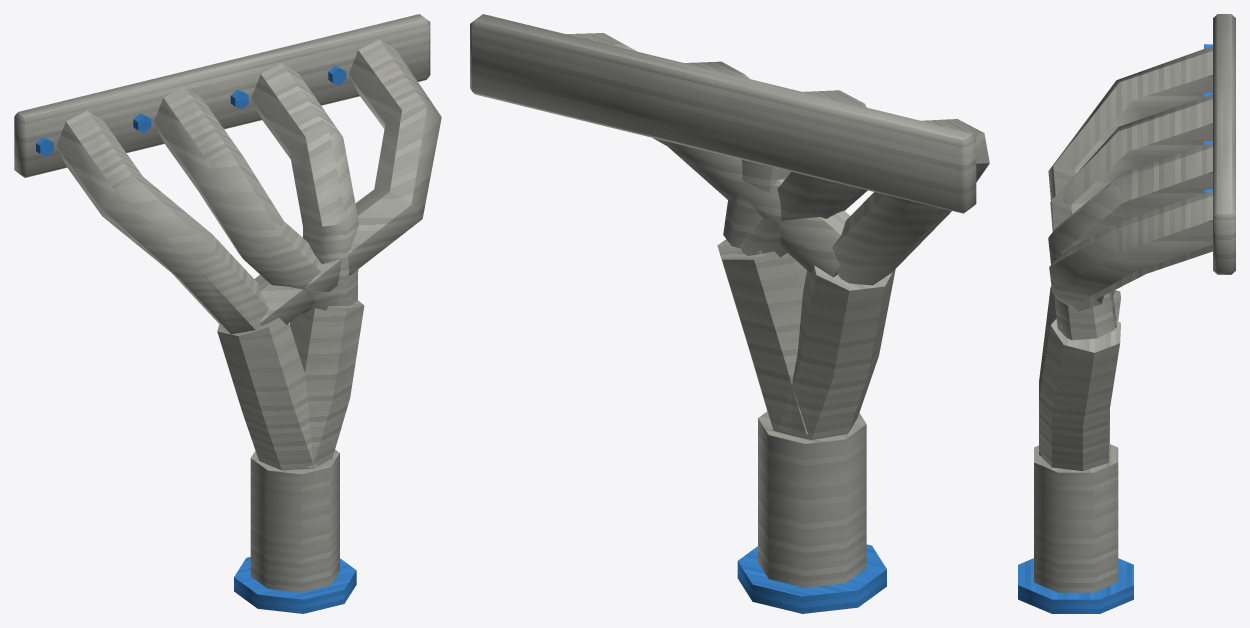
Rendered from coletor_escape_n2.glb.
3 renders of one model, left to right at view 1: azimuth 30°, elevation 25°; view 2: azimuth 150°, elevation 25°; view 3: azimuth 270°, elevation 25°, orthographic. The views are drawn at different scales.
Parts seen in each view (by area): view 1: coletor_escape_n2; view 2: coletor_escape_n2; view 3: coletor_escape_n2.
Part boxes in pixels (<box>): coletor_escape_n2: <box>14,14,441,613</box>; coletor_escape_n2: <box>470,14,989,613</box>; coletor_escape_n2: <box>1018,14,1235,613</box>.
Size of the model in its own units: 0.42 by 0.46 by 0.1908.
Materials: 1 (1 with a texture image).
